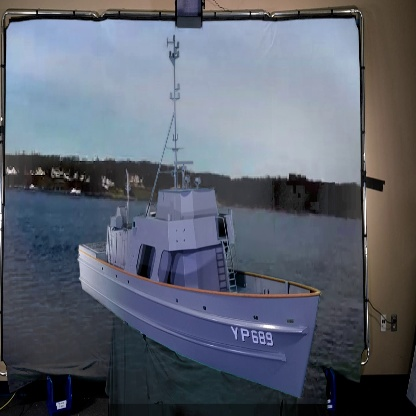YP689: (78, 35, 321, 401)
